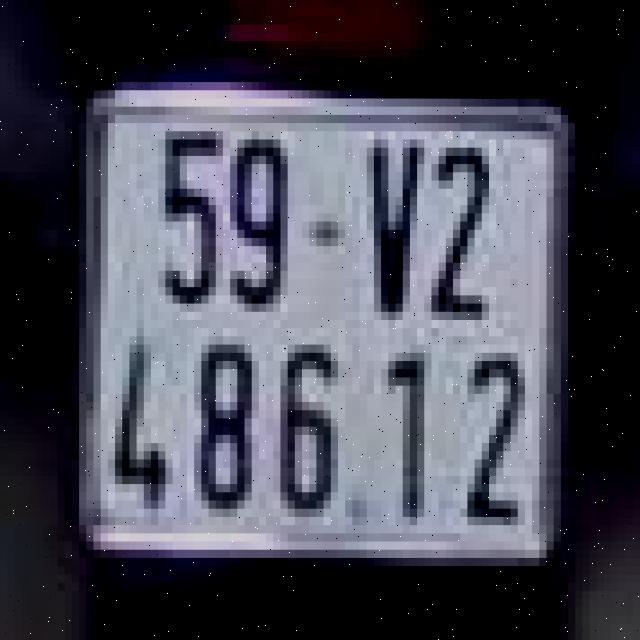1: (385, 349, 449, 521)
2: (468, 353, 532, 533), (435, 140, 493, 328)
4: (108, 332, 172, 513)
5: (151, 123, 223, 320)
6: (281, 341, 345, 521)
8: (191, 336, 255, 517)
9: (230, 131, 295, 320)
V: (363, 131, 421, 320)
